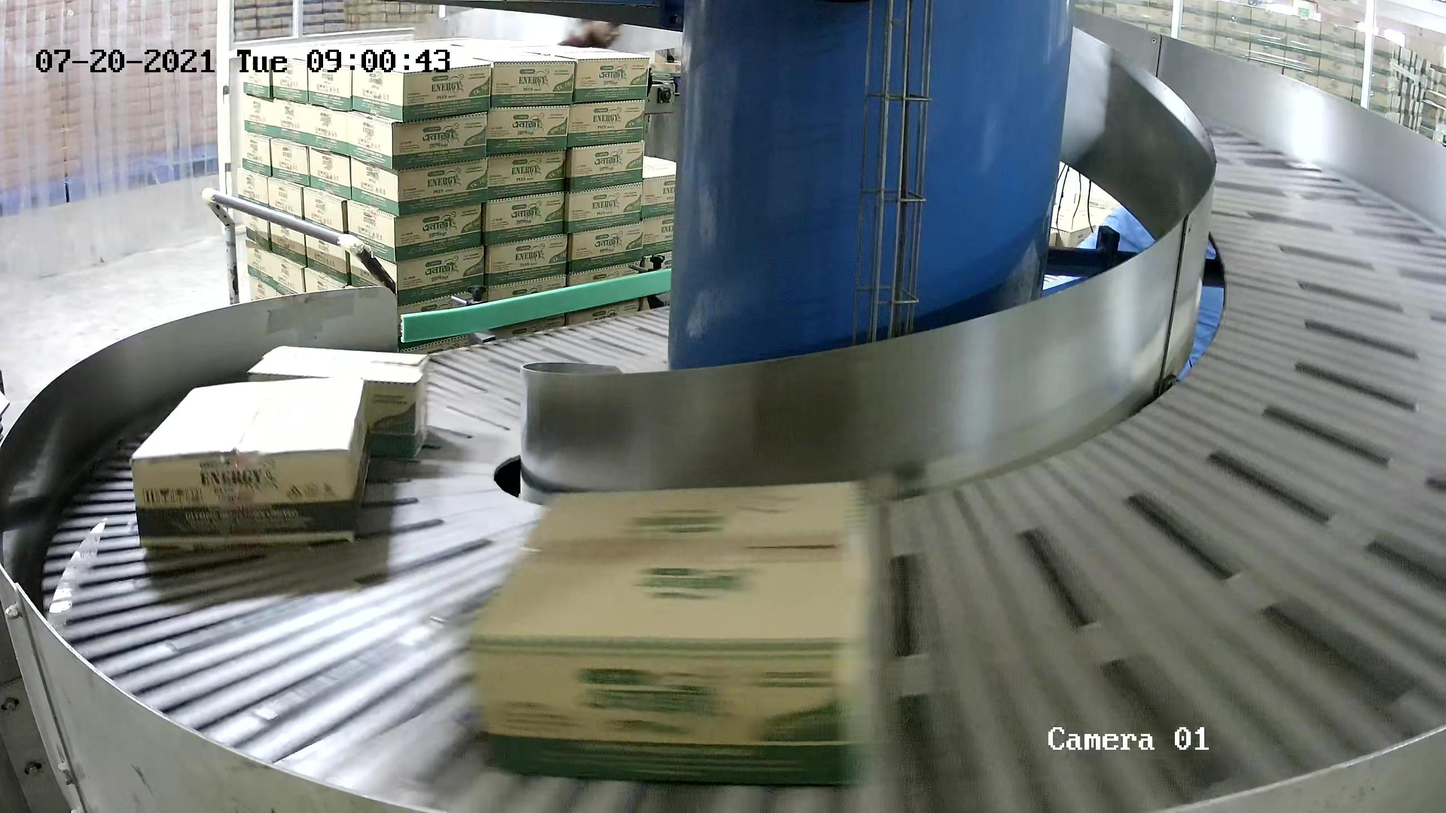Box: (465, 475, 870, 790), (131, 376, 376, 549), (248, 345, 430, 463)
